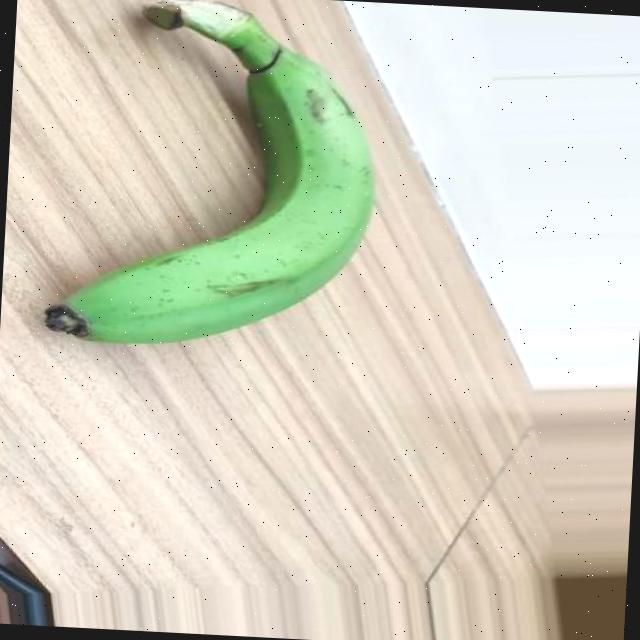Unripe: (38, 0, 388, 357)
